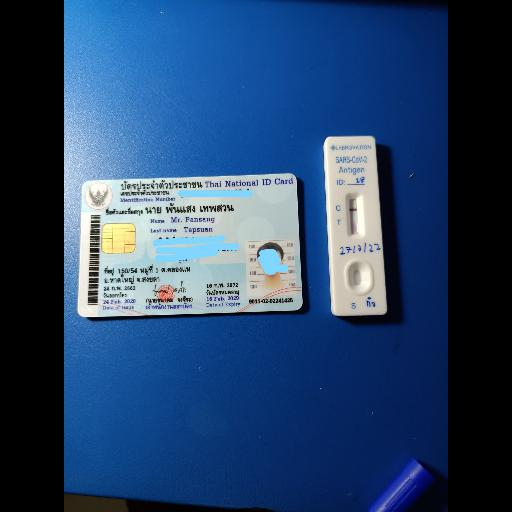Neg: (327, 137, 386, 315)
